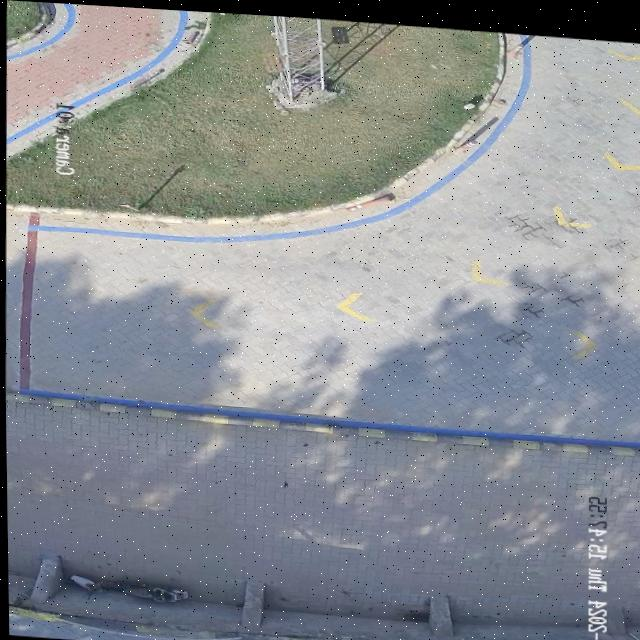No Car: (4, 0, 640, 640)
